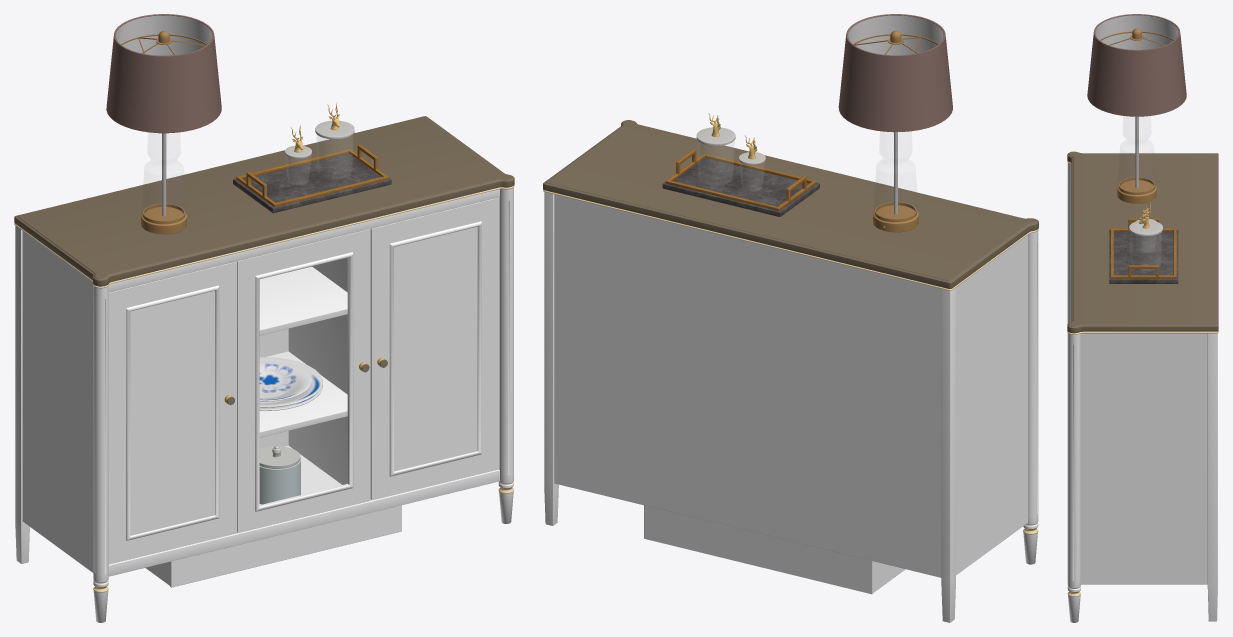
Rendered from european_style_dining_cabinet.glb.
The picture shows the model from 3 angles, left to right: view 1: azimuth 30°, elevation 25°; view 2: azimuth 150°, elevation 25°; view 3: azimuth 270°, elevation 25°; orthographic projection. The views are drawn at different scales.
Visible parts, largest first — view 1: object 1, object 3, object 20, object 15, object 2, object 25, object 14, object 37, object 4, object 18, object 5, object 12 (+13 smaller); view 2: object 16, object 20, object 15, object 25, object 39, object 24, object 36, object 23, object 4, UVing1_112, object 35, object 21; view 3: object 22, object 20, object 25, object 5, object 23, object 36, UVing1_112, object 35, object 4, object 21, object 55, object 57 (+1 smaller).
Boxes of the visible parts, x1,y1,x2,y2 form: object 1: [370, 197, 499, 499]; object 3: [108, 261, 236, 564]; object 20: [14, 116, 514, 286]; object 15: [22, 231, 93, 572]; object 2: [237, 229, 370, 532]; object 25: [106, 14, 221, 133]; object 14: [288, 258, 347, 484]; object 37: [170, 505, 401, 587]; object 4: [93, 286, 108, 622]; object 18: [108, 469, 499, 576]; object 5: [498, 187, 513, 523]; object 12: [259, 266, 347, 335]; object 16: [554, 194, 941, 577]; object 20: [543, 120, 1038, 288]; object 15: [956, 235, 1027, 574]; object 25: [838, 14, 952, 132]; object 39: [644, 505, 873, 594]; object 24: [941, 287, 955, 622]; object 36: [662, 158, 819, 216]; object 23: [544, 192, 558, 525]; object 4: [1023, 231, 1038, 564]; UVing1_112: [665, 149, 816, 210]; object 35: [873, 202, 918, 232]; object 21: [543, 190, 1038, 290]; object 22: [1080, 333, 1207, 584]; object 20: [1067, 151, 1218, 333]; object 25: [1087, 14, 1186, 116]; object 5: [1067, 333, 1080, 622]; object 23: [1207, 333, 1217, 621]; object 36: [1109, 230, 1178, 283]; UVing1_112: [1110, 218, 1176, 278]; object 35: [1117, 177, 1156, 203]; object 4: [1067, 163, 1071, 323]; object 21: [1067, 161, 1218, 334]; object 55: [1129, 220, 1162, 236]; object 57: [1135, 235, 1156, 252].
Bounding box in the file's own units: 153 × 187 × 55.46.
2 materials, 2 textured.
